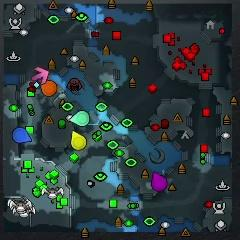p1: (12, 127, 31, 143)
p2: (70, 111, 90, 127)
p3: (152, 172, 168, 192)
p4: (70, 131, 87, 151)
p5: (40, 79, 56, 96)
x1: (33, 67, 51, 84)
